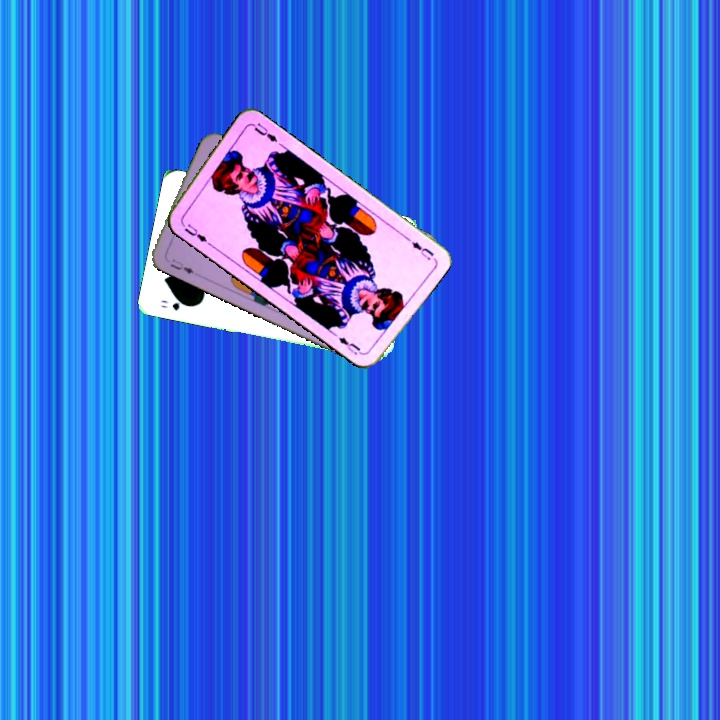EU: (401, 232, 437, 262), (180, 220, 210, 245), (166, 255, 196, 276)
GO: (157, 296, 193, 313)
